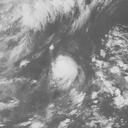cyclone: (49, 55, 82, 91)
